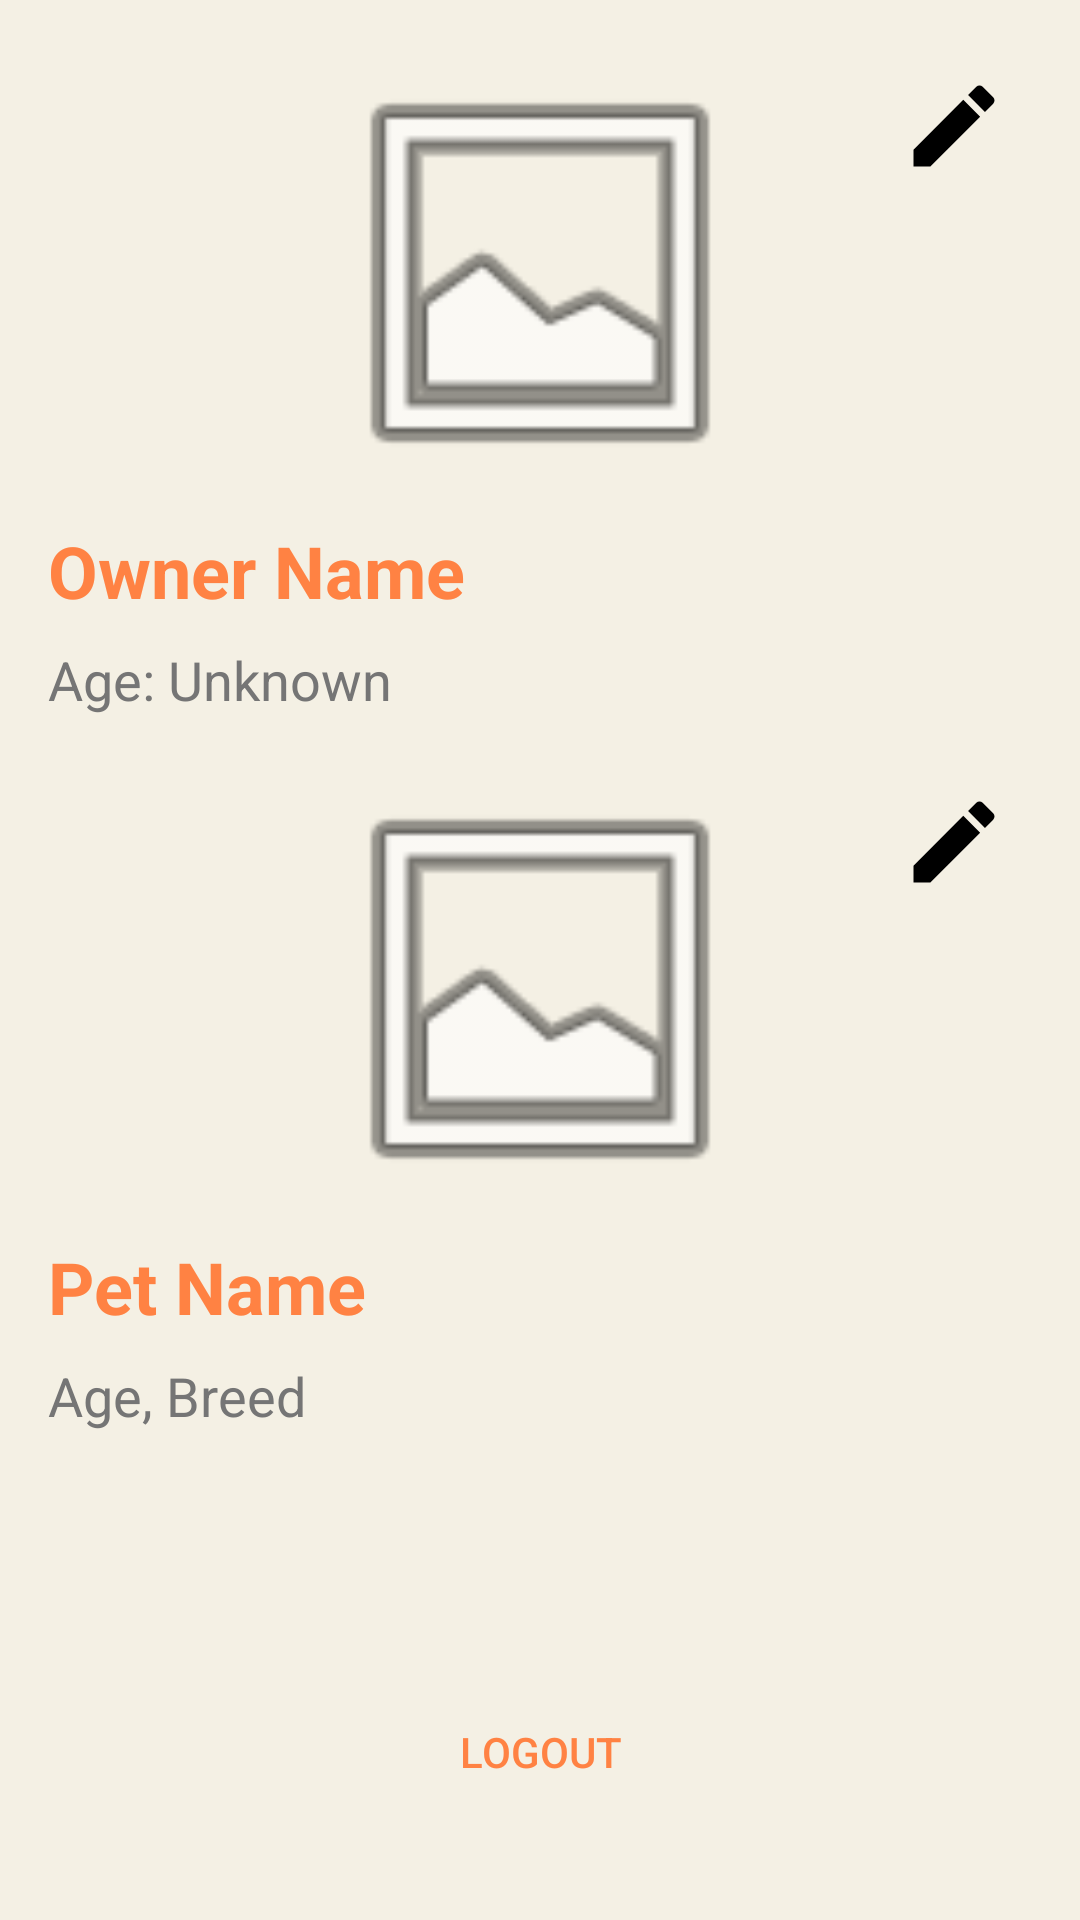

Icon click points for this 1080px x 1920px phone screenshot, format (x,y):
Edit Owner Profile: (954,126)
Edit Pet Profile: (954,842)
